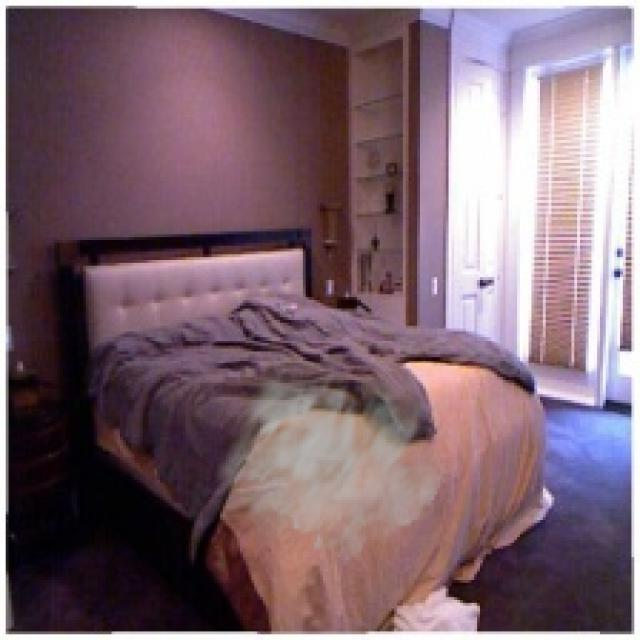smoke: (206, 337, 457, 569)
